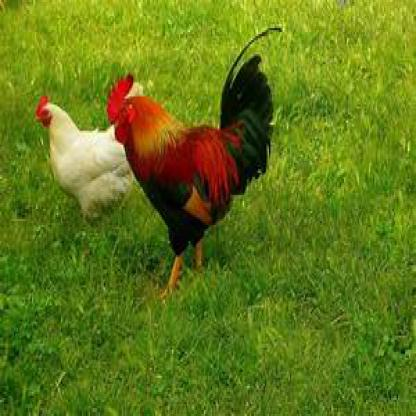chicken: (107, 44, 277, 298), (29, 93, 144, 223)
